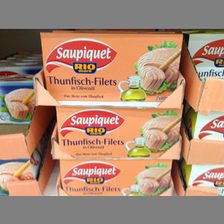fish: (40, 31, 185, 101), (56, 105, 185, 157), (59, 158, 173, 196)
